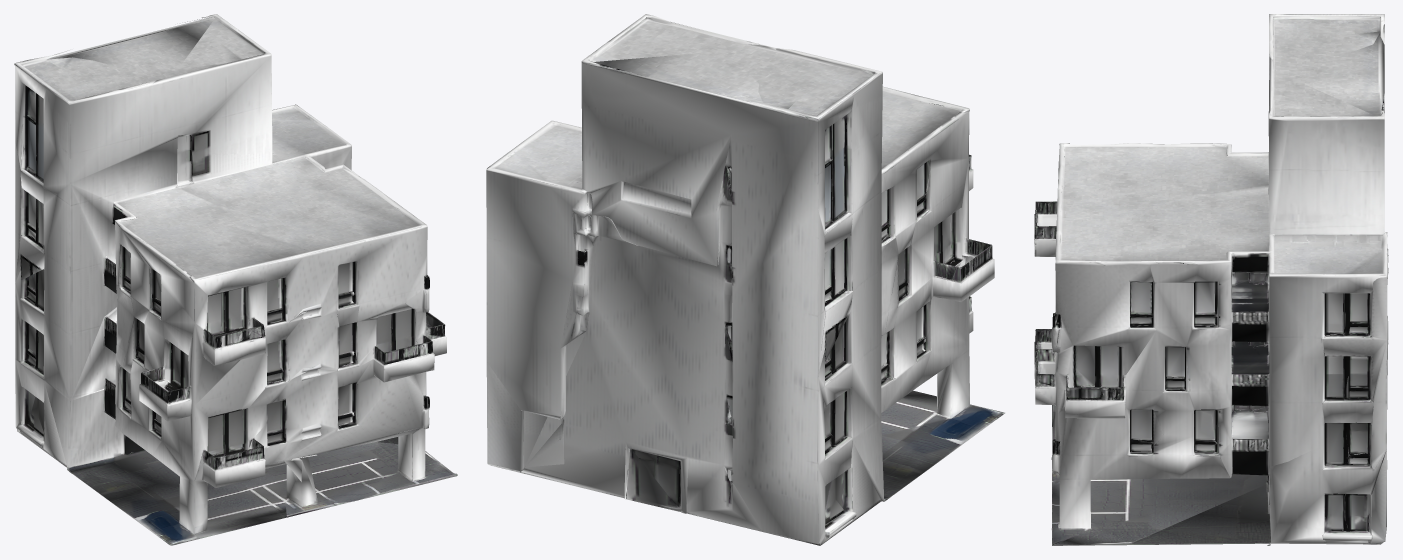
Rendered from podun.glb.
The picture shows the model from 3 angles, left to right: view 1: azimuth 30°, elevation 25°; view 2: azimuth 150°, elevation 25°; view 3: azimuth 270°, elevation 25°; orthographic projection. The views are drawn at different scales.
Visible parts, largest first — view 1: Mesh_0; view 2: Mesh_0; view 3: Mesh_0.
Boxes of the visible parts, <box> form: Mesh_0: <box>14,14,457,545</box>; Mesh_0: <box>486,14,1004,545</box>; Mesh_0: <box>1034,14,1388,545</box>.
Bounding box in the file's own units: 1.57 × 1.9 × 1.58.
Materials: 1 (1 with a texture image).
